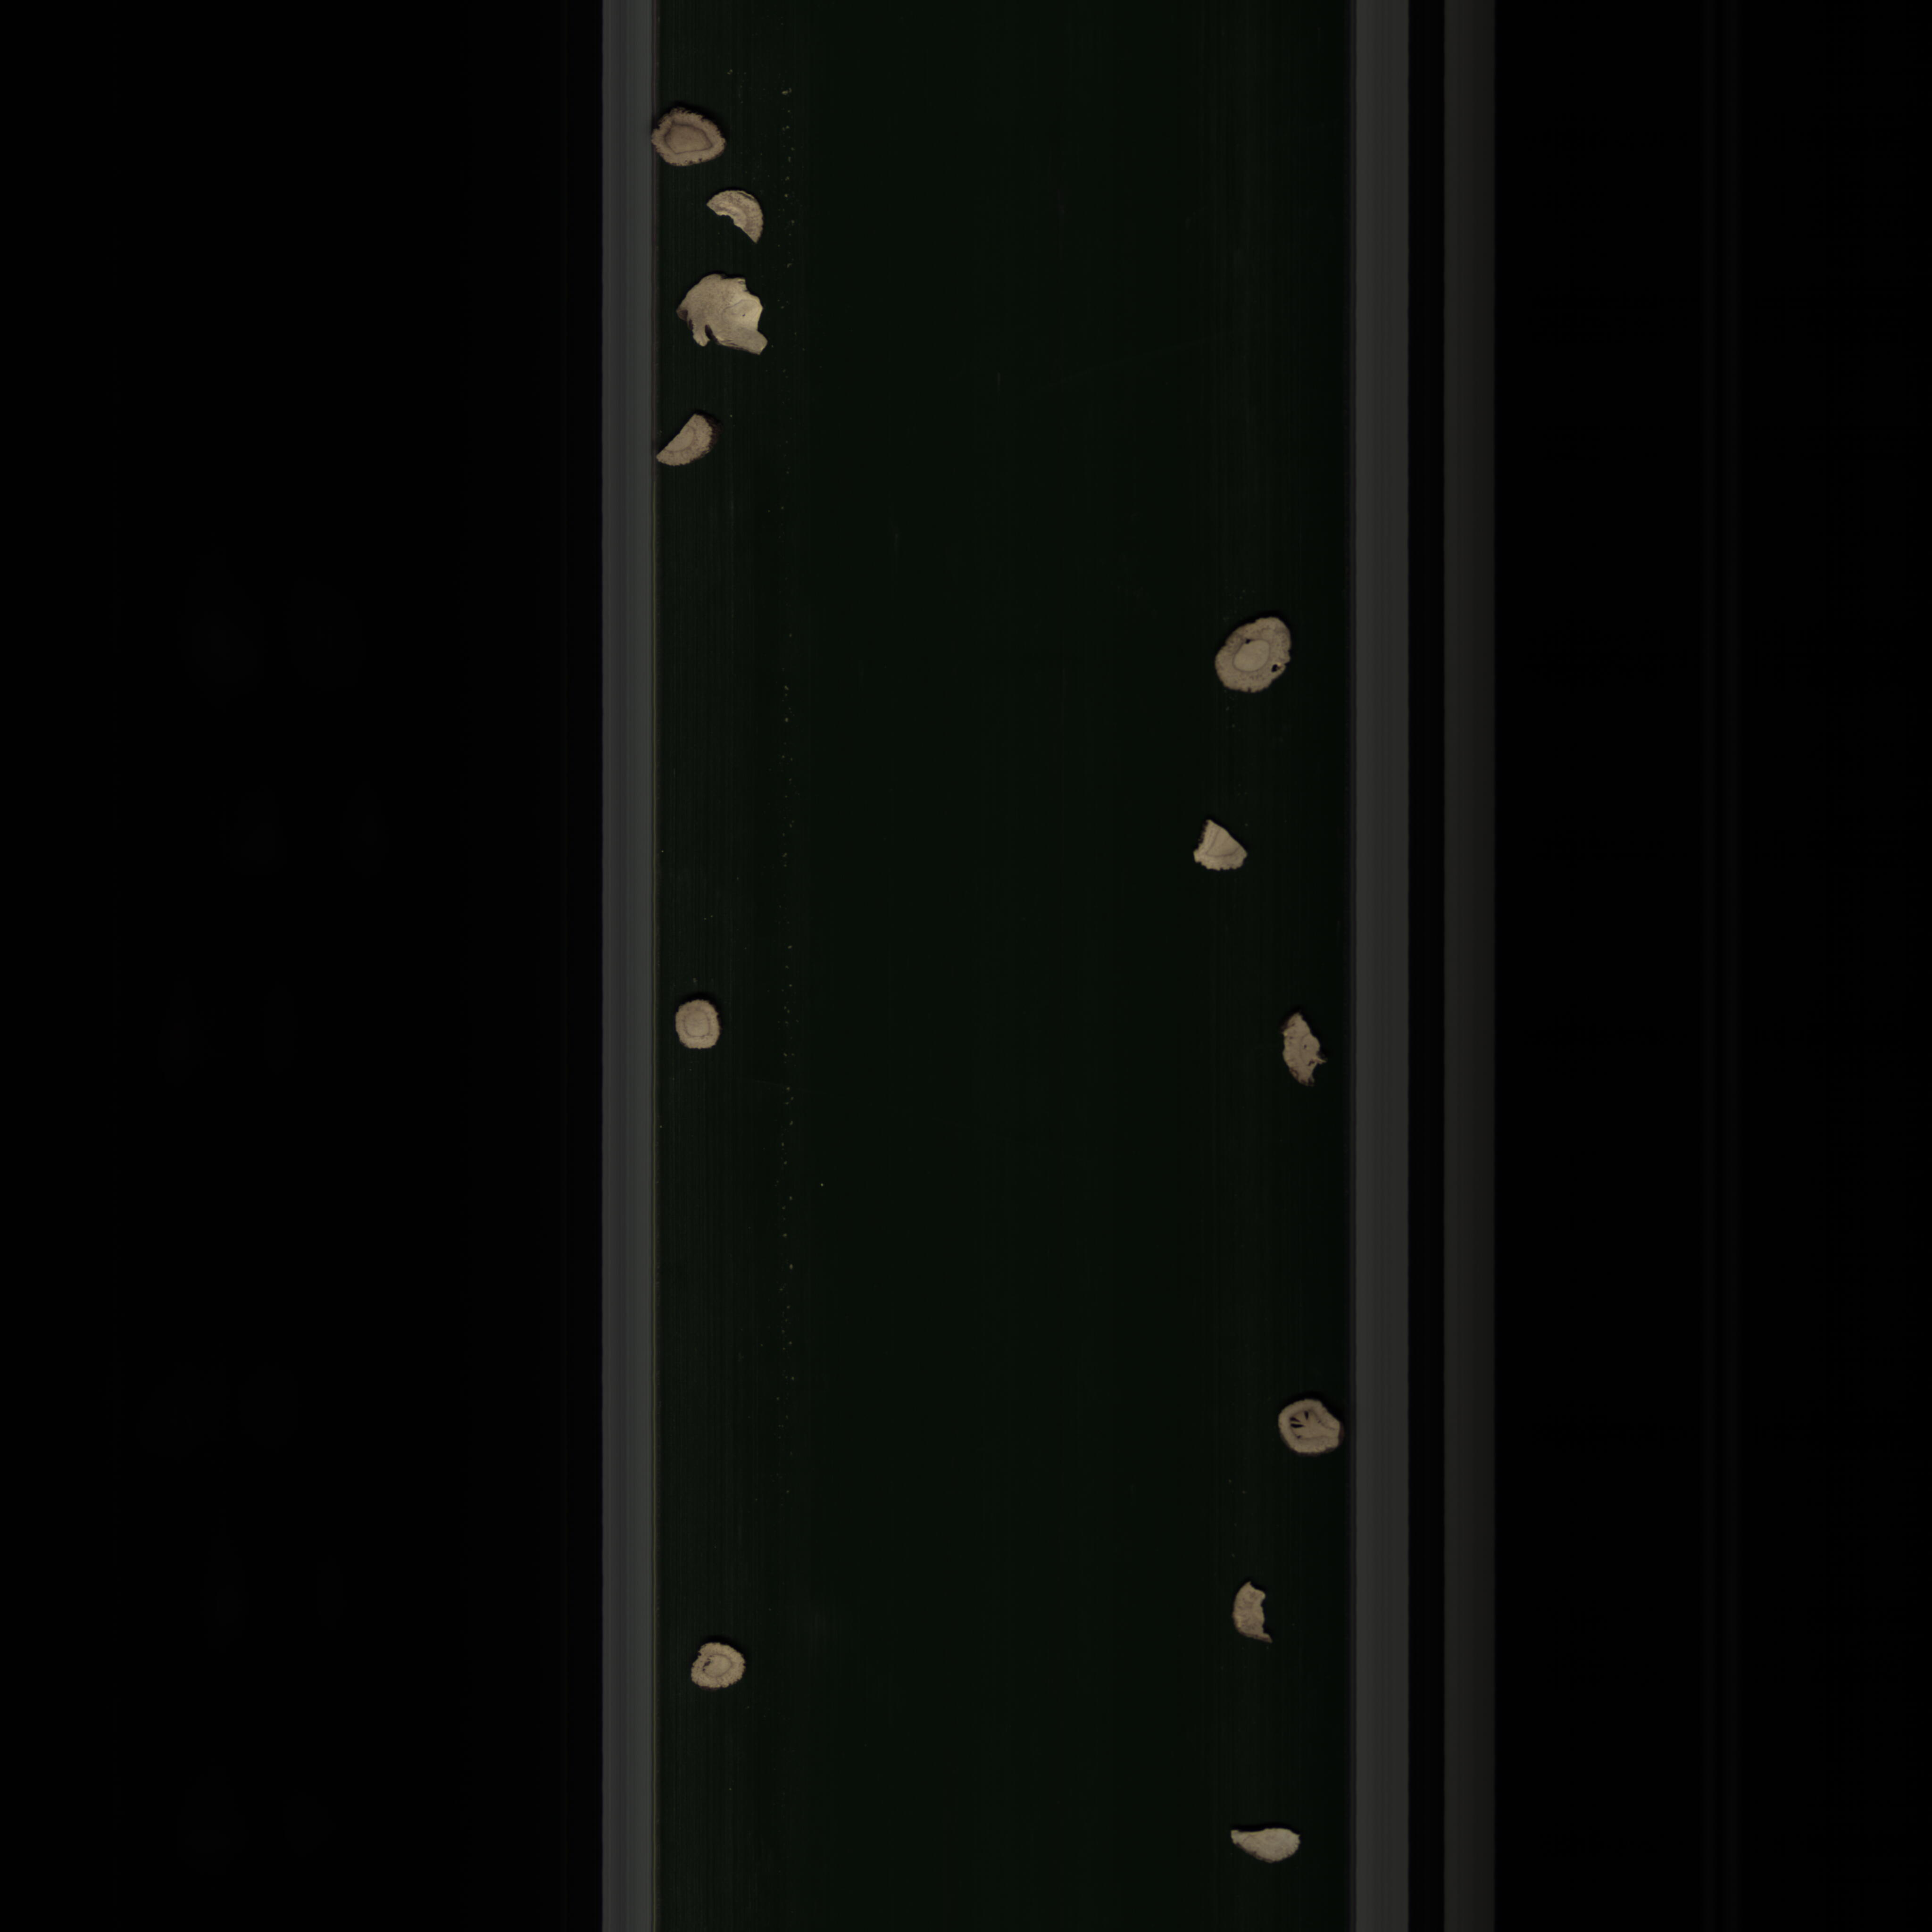debris: (676, 265, 771, 363), (1274, 1007, 1332, 1099), (1180, 816, 1256, 881), (1219, 1824, 1316, 1870), (1228, 1573, 1283, 1651), (697, 188, 770, 246), (651, 410, 720, 471)
hole: (1208, 619, 1297, 694), (1272, 1394, 1348, 1461)
moldy: (649, 103, 731, 175)
